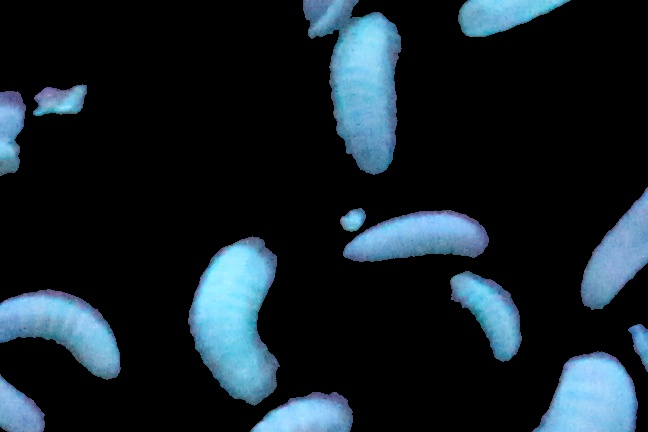larvae: (184, 235, 297, 407), (1, 286, 117, 383), (332, 20, 401, 180), (533, 344, 642, 432), (582, 181, 648, 309), (446, 269, 530, 367), (341, 210, 488, 260), (451, 1, 618, 37), (244, 389, 358, 432), (1, 379, 52, 431)
